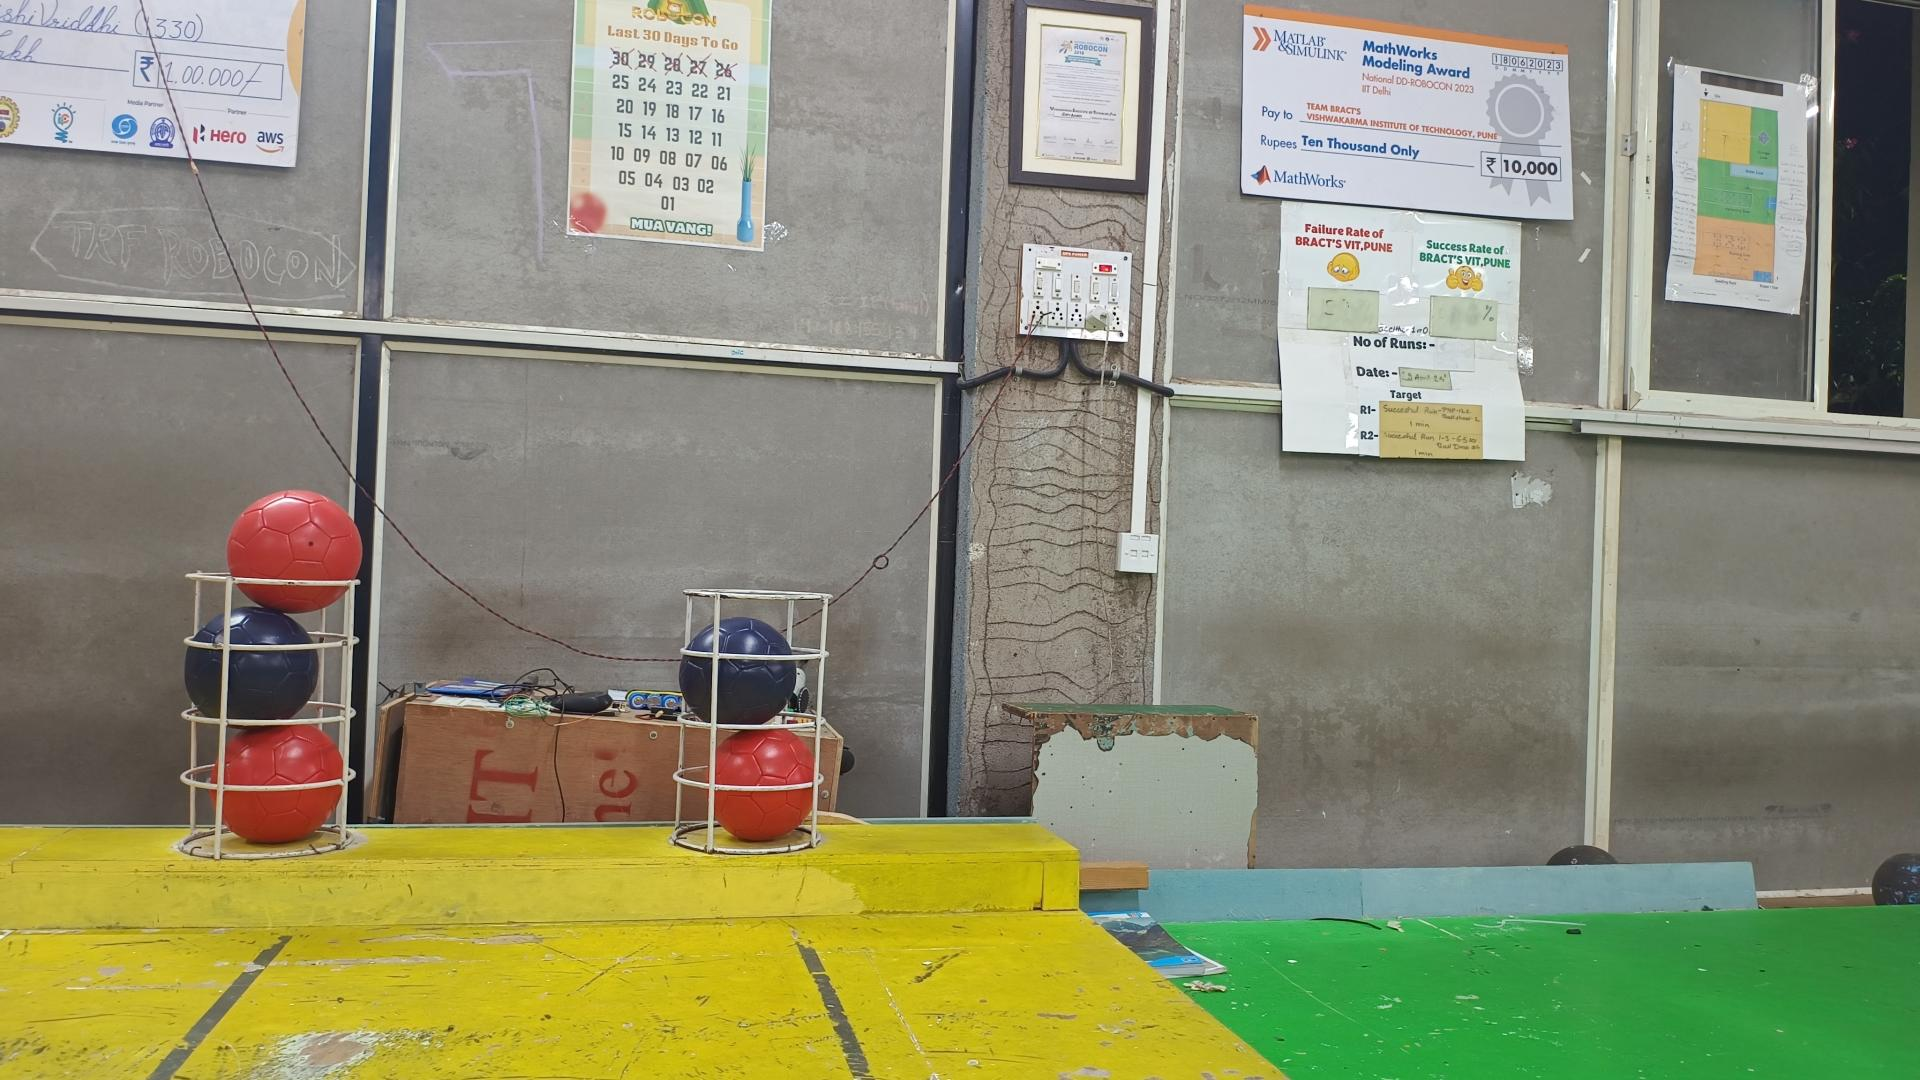dhoka: (183, 608, 319, 720), (679, 615, 795, 724)
laale: (225, 492, 364, 615), (210, 724, 345, 844), (702, 728, 818, 840)
